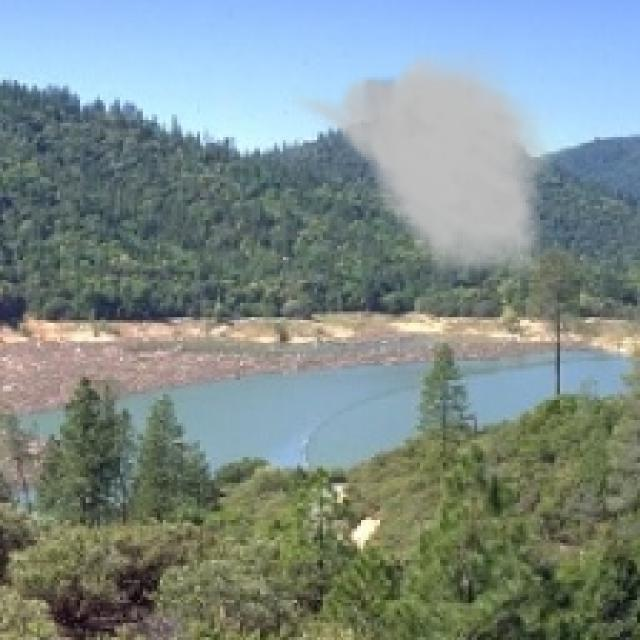smoke: (289, 46, 557, 291)
